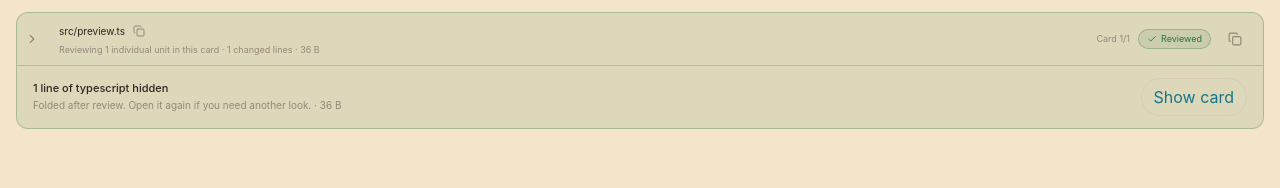
same-file concept cards › lets the reviewer fold a file card back up after opening it
The width and height of the screenshot is (1280, 188).
Click the button named "Expand preview.ts" at (32, 39), box [17, 13, 47, 64]
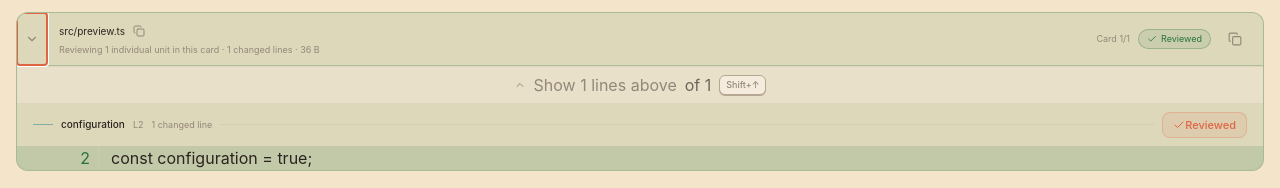
Expected: the element that starts with "src/preview.ts" shows "const configuration = true;", [17, 146, 1263, 170]
Click the button named "Collapse preview.ts" at (32, 39), box [17, 13, 47, 64]
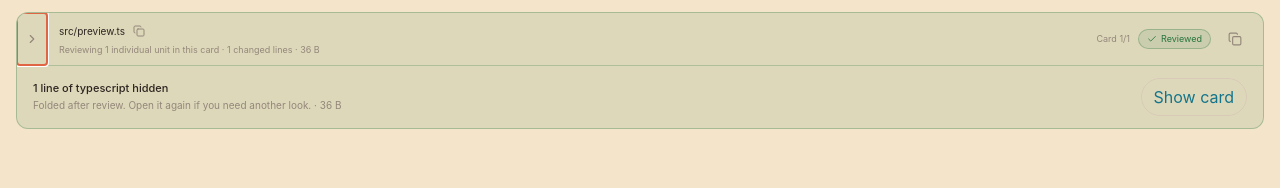
Expected: the element that starts with "src/preview.ts" no longer shows "const configuration = true;"
